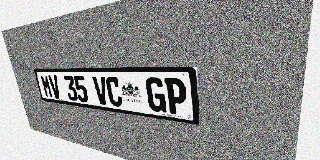3: (63, 76, 78, 101)
5: (73, 76, 89, 103)
C: (105, 76, 123, 107)
G: (145, 77, 167, 113)
M: (40, 75, 53, 98)
P: (164, 78, 188, 116)
V: (92, 76, 109, 105), (48, 75, 62, 99)
